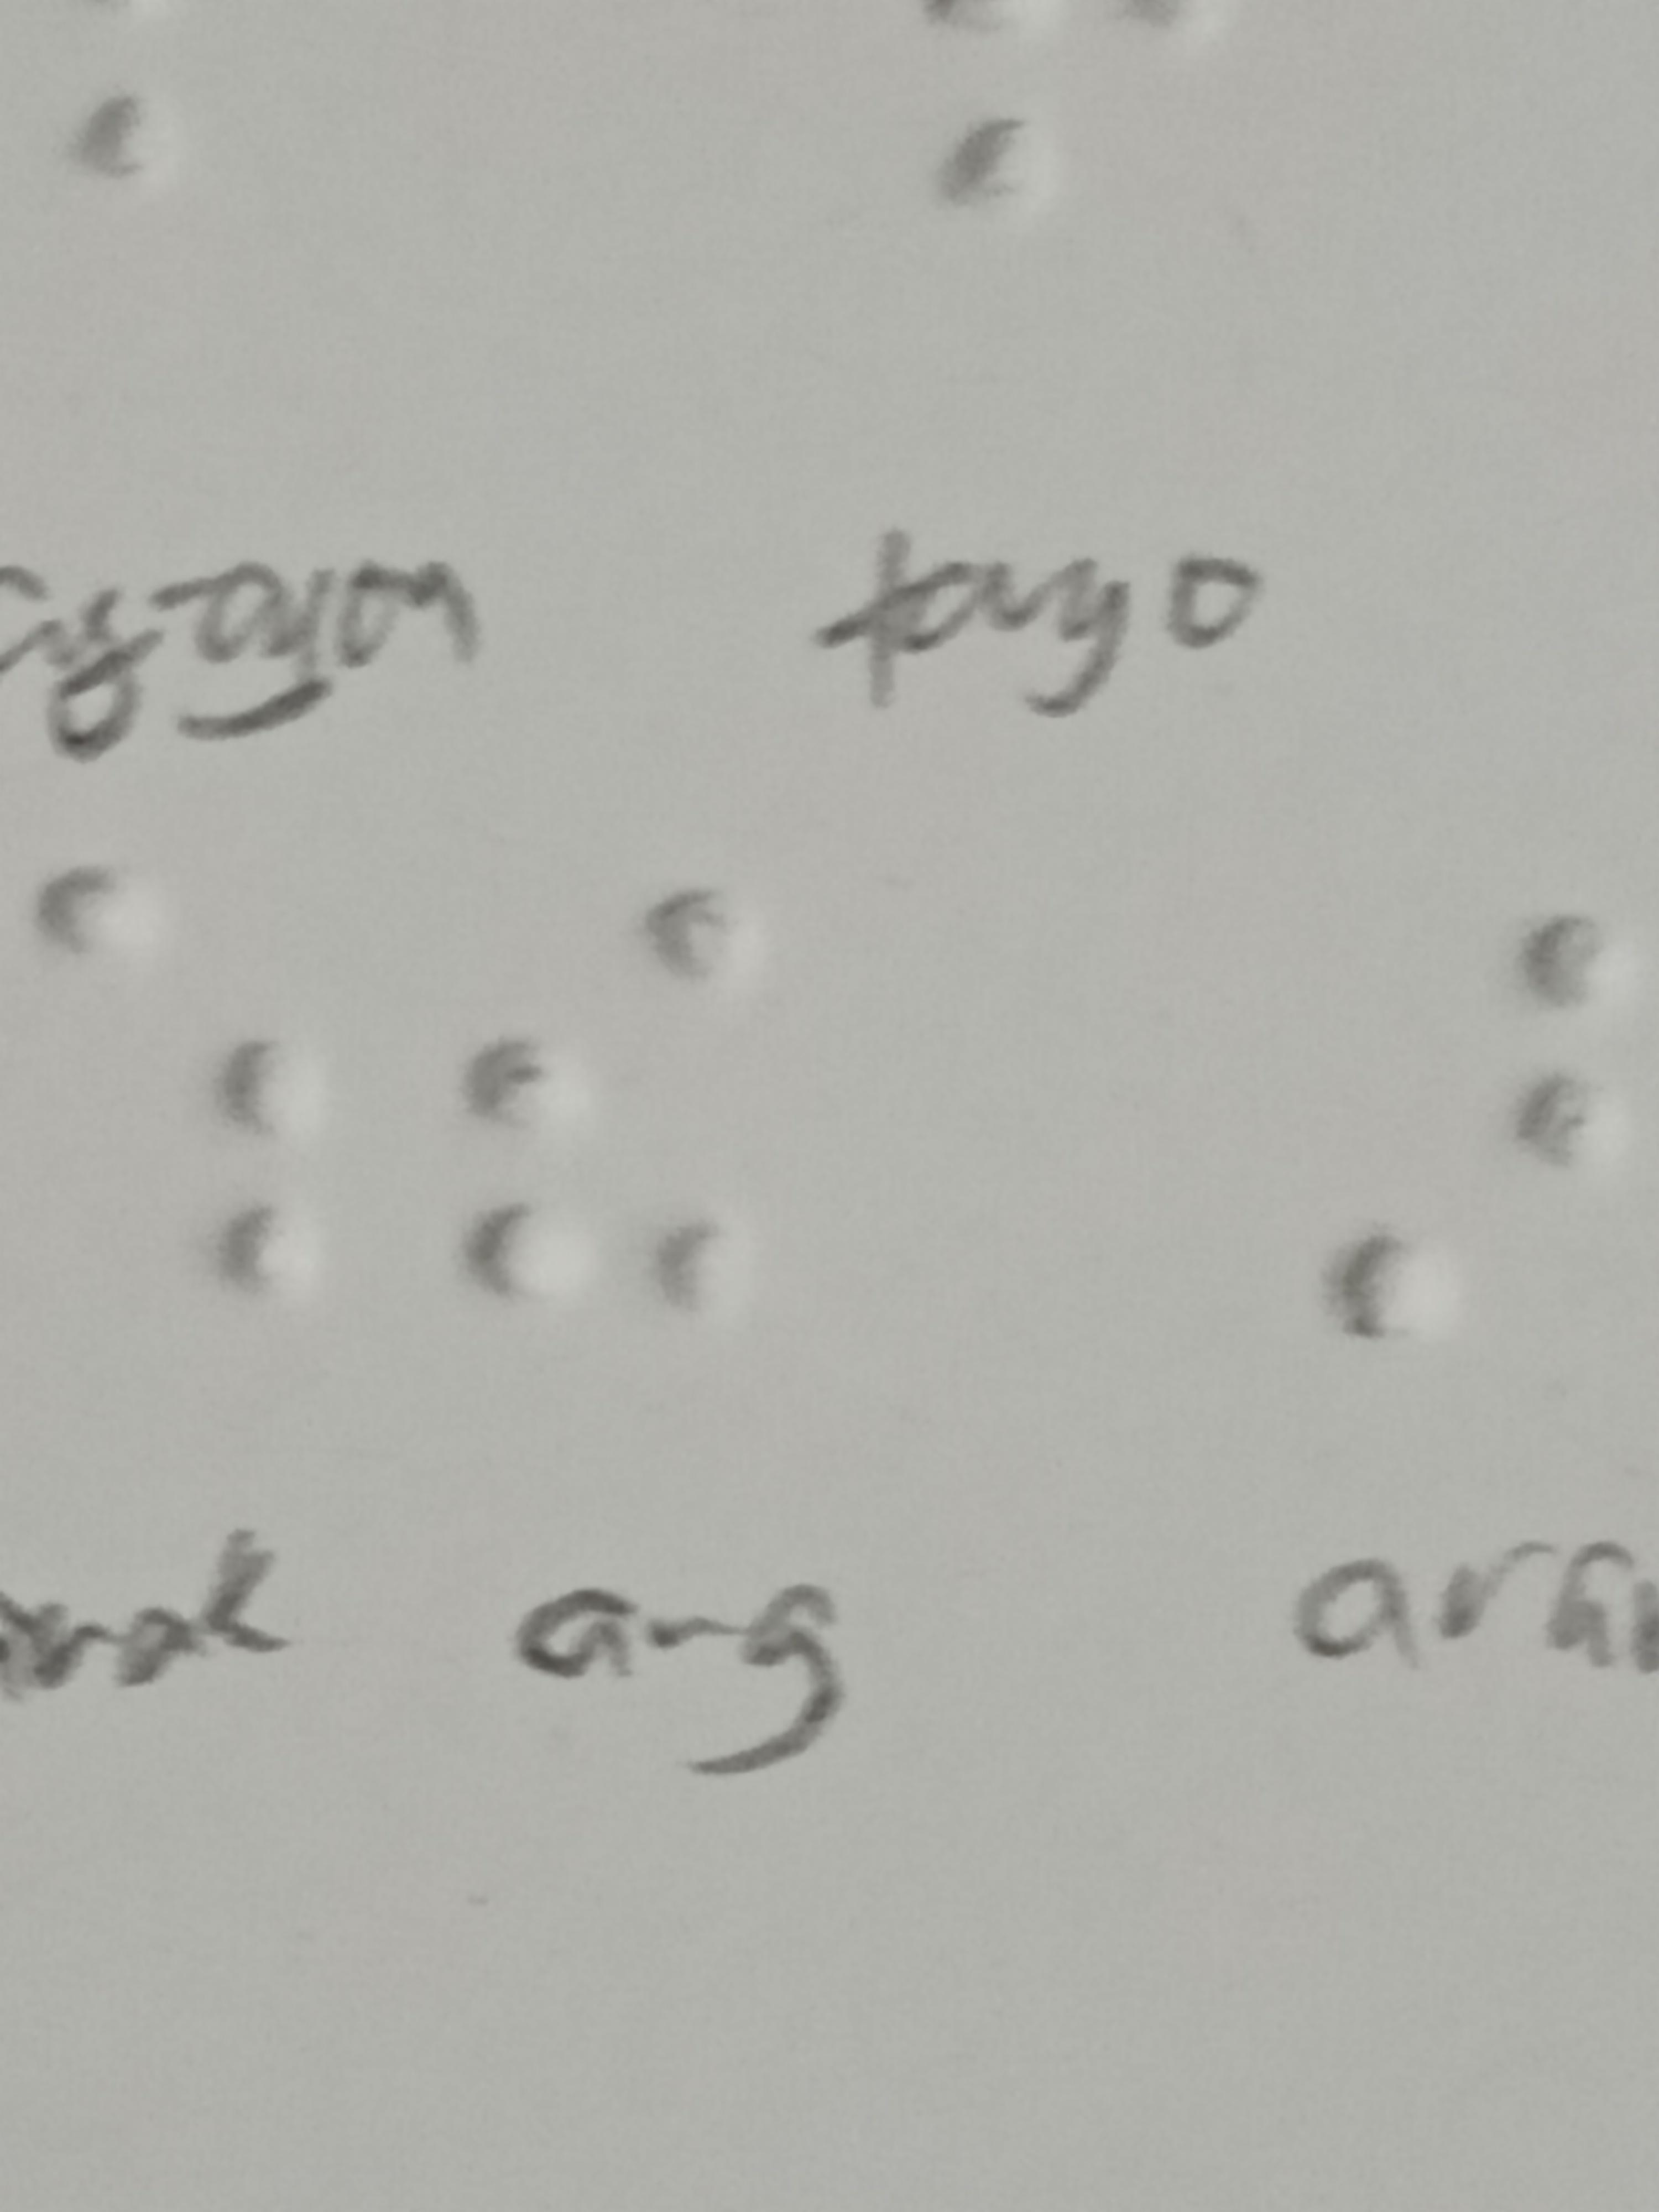one_cell_non_alphabet_ang: (465, 880, 756, 1317)
